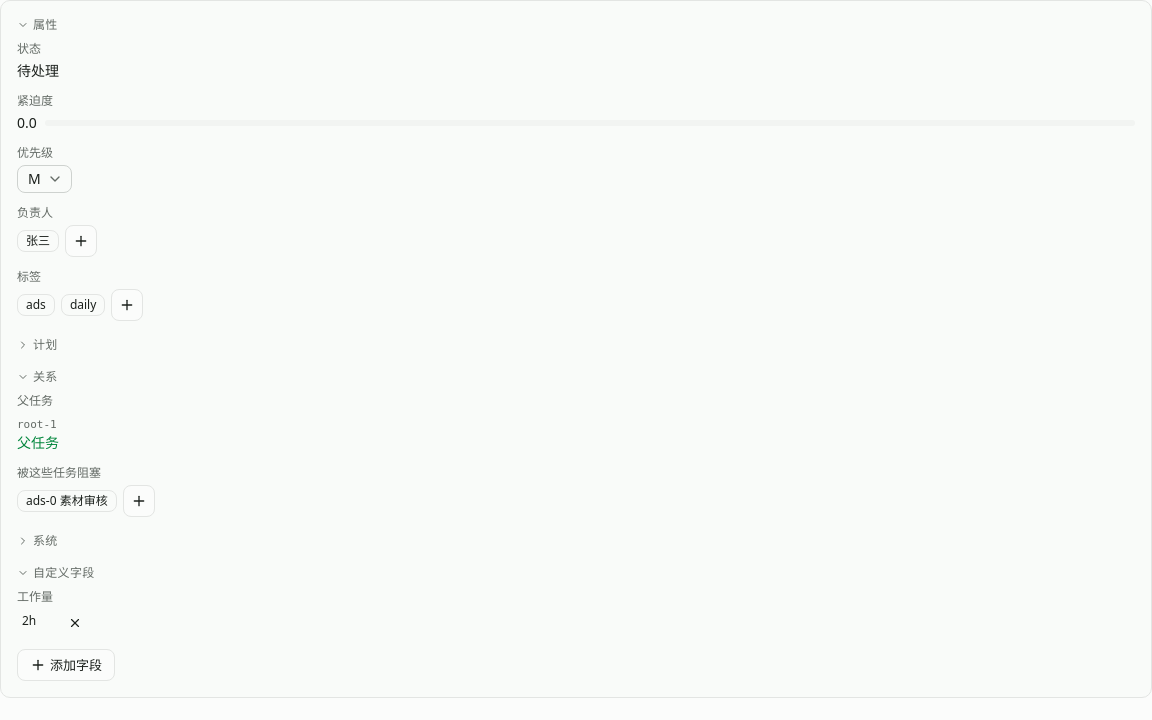
TaskPropertyPanel › collapses an empty schedule until the user chooses to edit it
Expected: the button "截止日期" is not shown
Click the button "计划": click(23, 345) [17, 337, 1135, 353]
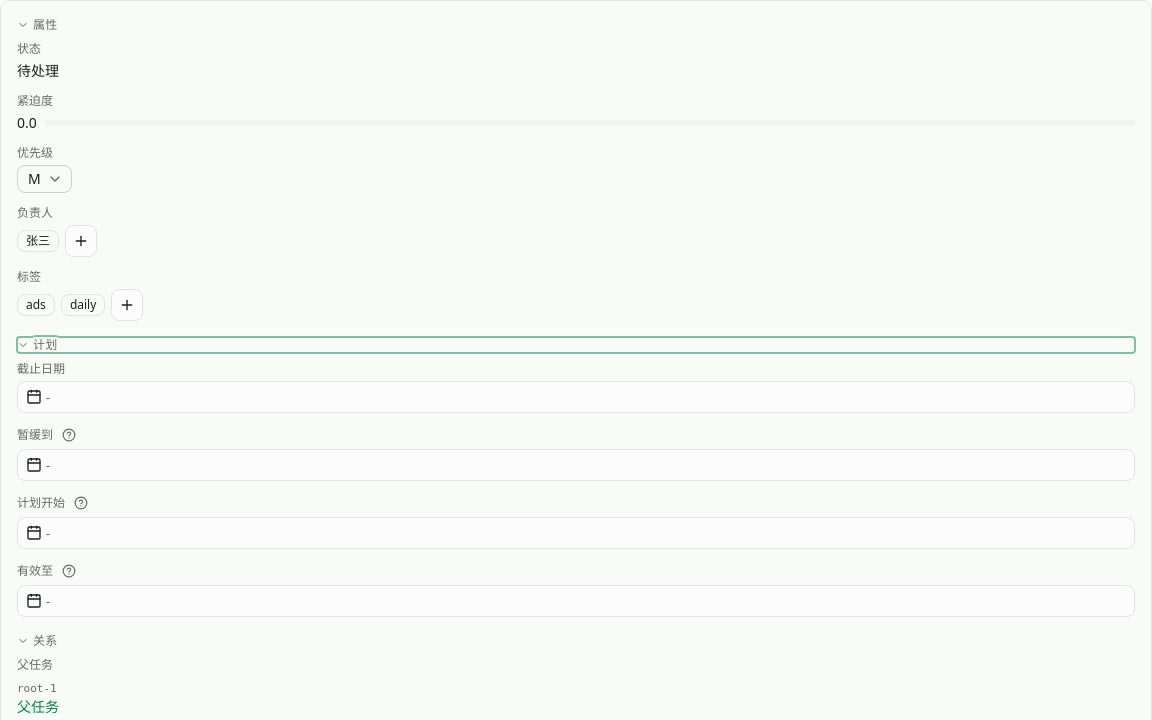
Expected: the button named "截止日期" is shown, [17, 381, 1135, 413]
